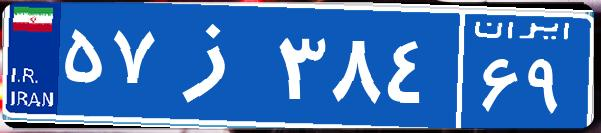3: (273, 28, 330, 110)
4: (385, 28, 445, 110)
5: (57, 26, 110, 107)
6: (475, 38, 525, 113)
7: (110, 28, 158, 105)
8: (330, 28, 385, 110)
9: (525, 38, 570, 115)
ز: (158, 15, 273, 115)
